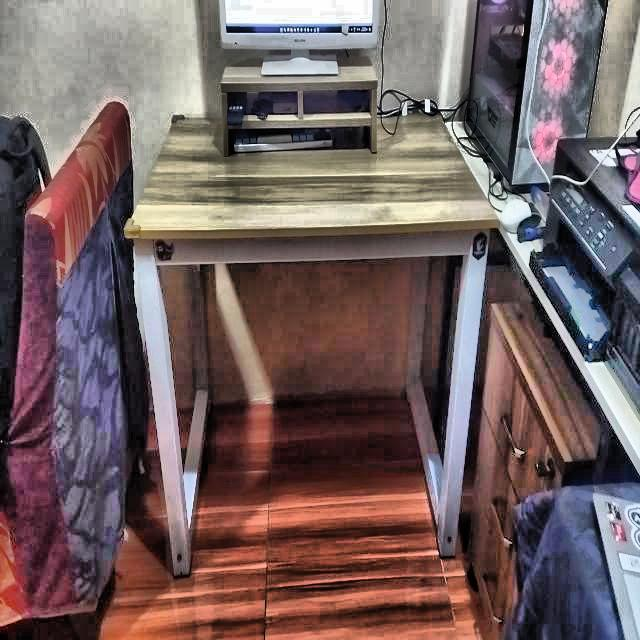mesa: (119, 100, 504, 588)
